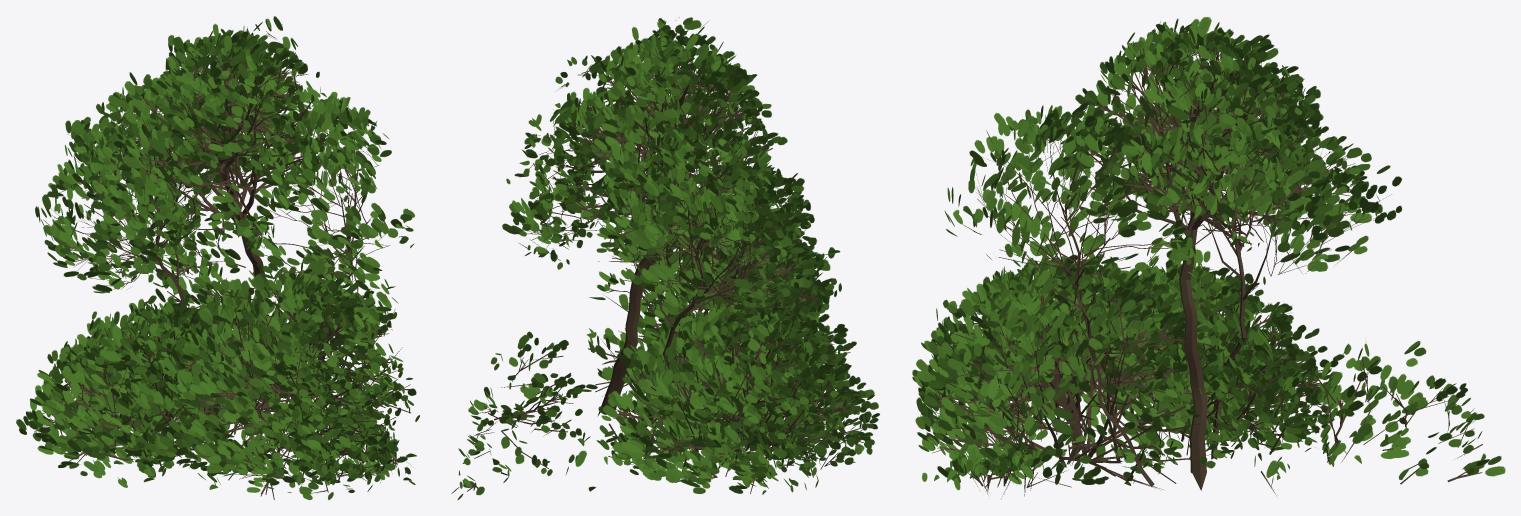
The picture shows the model from 3 angles, left to right: view 1: azimuth 30°, elevation 25°; view 2: azimuth 150°, elevation 25°; view 3: azimuth 270°, elevation 25°; orthographic projection. The views are drawn at different scales.
Parts seen in each view (by area): view 1: oak 01.001_trunk_Mat.001_0.266; view 2: oak 01.001_trunk_Mat.001_0.266; view 3: oak 01.001_trunk_Mat.001_0.266.
Boxes of the visible parts, bbox=[...] form: oak 01.001_trunk_Mat.001_0.266: bbox=[16, 16, 419, 499]; oak 01.001_trunk_Mat.001_0.266: bbox=[451, 17, 879, 500]; oak 01.001_trunk_Mat.001_0.266: bbox=[912, 17, 1505, 498].
Size of the model in its own units: 2.58 by 3.41 by 4.09.
2 materials, 1 textured.
